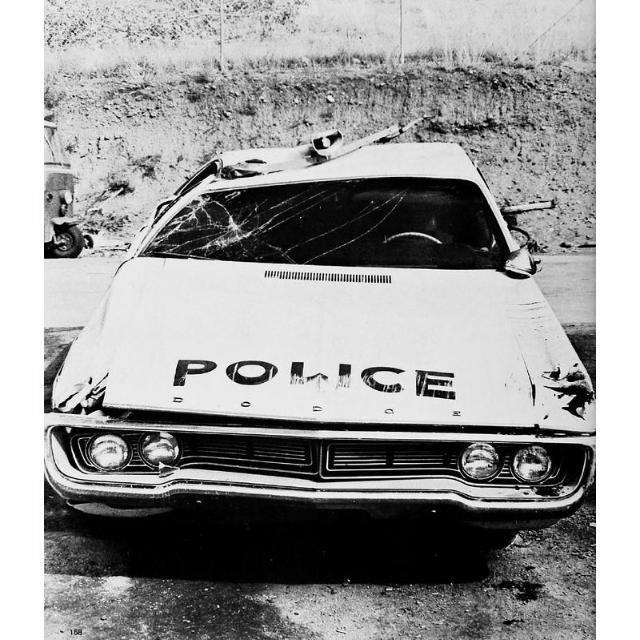Front-windscreen-damage: (155, 179, 514, 279)
bonnet-dent: (110, 261, 547, 436)
roof-dent: (203, 123, 488, 188)
